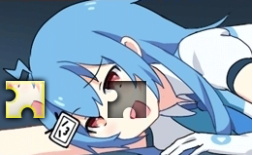gap: (107, 81, 146, 117)
